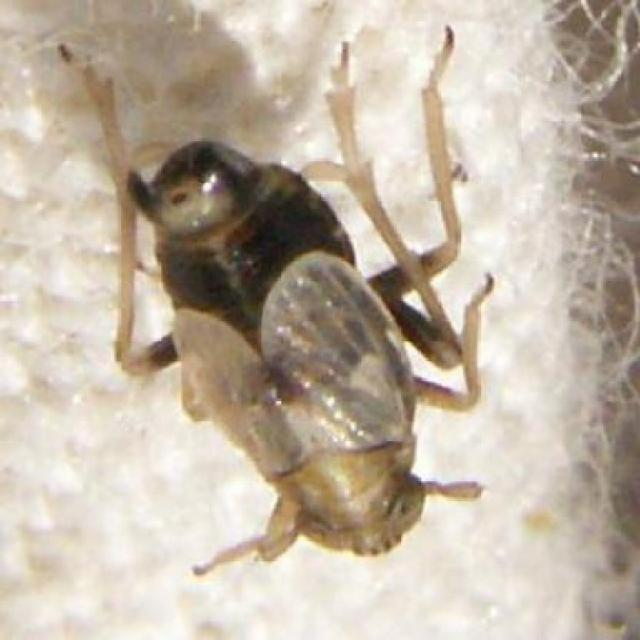brown-planthopper: (108, 114, 490, 566)
